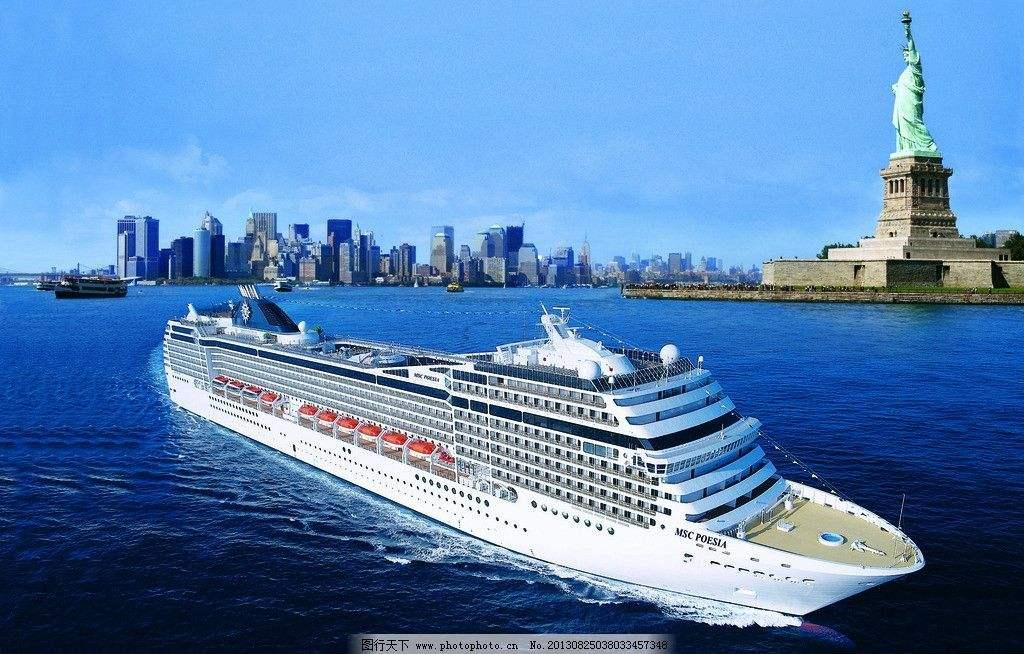youlun: (160, 282, 924, 615)
